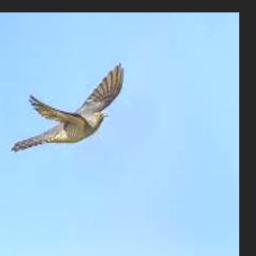Cuckoo: (10, 63, 124, 151)
